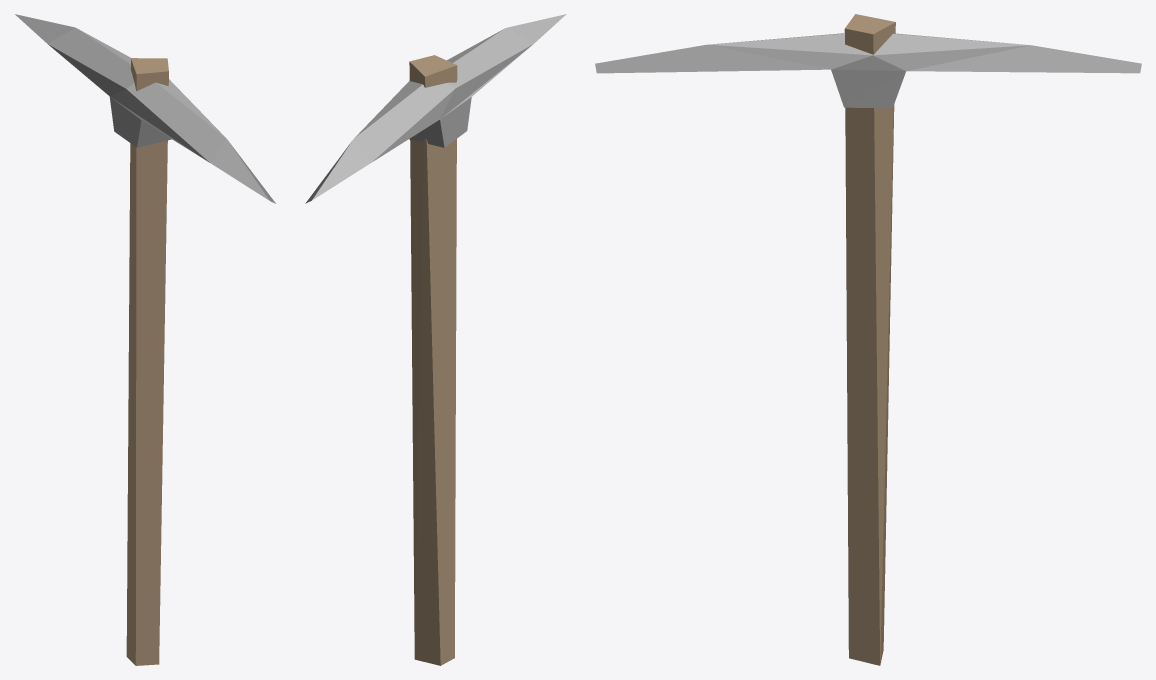
File: IronPickaxe.glb
3 views of the same model, side by side, from view 1: azimuth 30°, elevation 25°; view 2: azimuth 150°, elevation 25°; view 3: azimuth 270°, elevation 25° (orthographic). The views are drawn at different scales.
Visible parts, largest first — view 1: Cylinder.015, Cylinder.014; view 2: Cylinder.015, Cylinder.014; view 3: Cylinder.015, Cylinder.014.
Boxes of the visible parts, x1=… form: Cylinder.015: x1=126, y1=58, x2=168, y2=665; Cylinder.014: x1=15, y1=14, x2=275, y2=203; Cylinder.015: x1=409, y1=55, x2=457, y2=665; Cylinder.014: x1=305, y1=14, x2=566, y2=203; Cylinder.015: x1=844, y1=14, x2=895, y2=665; Cylinder.014: x1=595, y1=33, x2=1141, y2=107.
Bounding box in the file's own units: 0.0716 × 0.902 × 0.7029.
